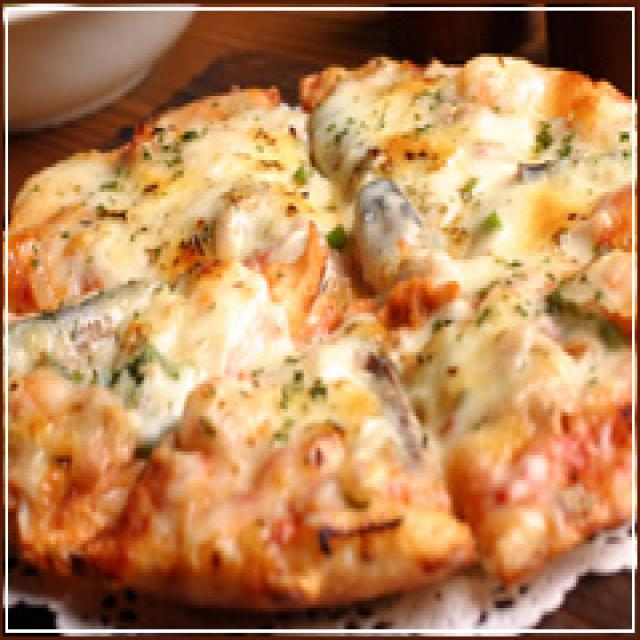汉堡快餐: (8, 11, 624, 618)
